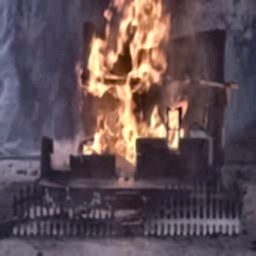fire: (61, 0, 197, 171)
